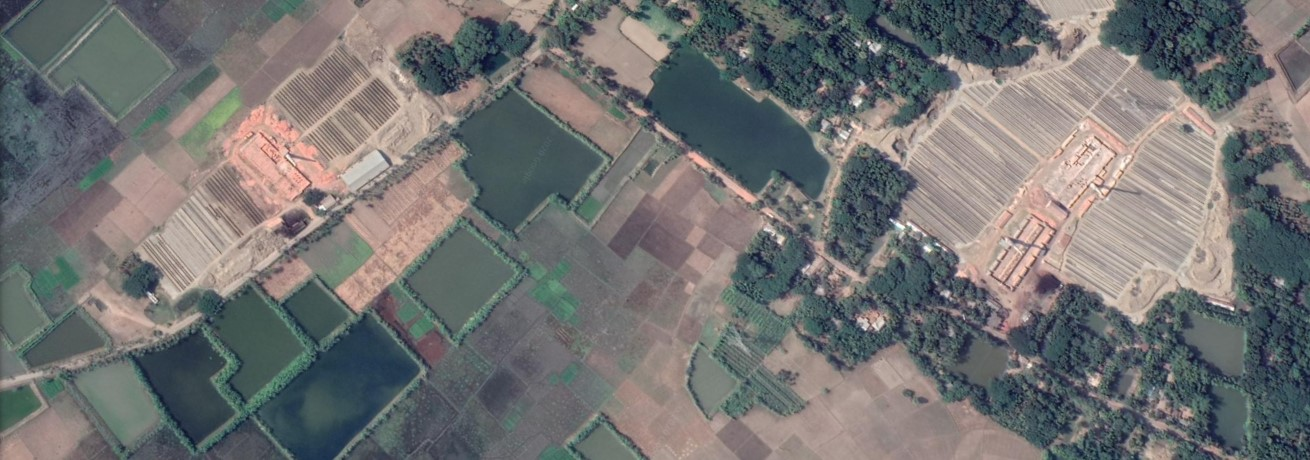kiln: (228, 127, 333, 203), (1034, 140, 1125, 218), (987, 220, 1063, 287)
